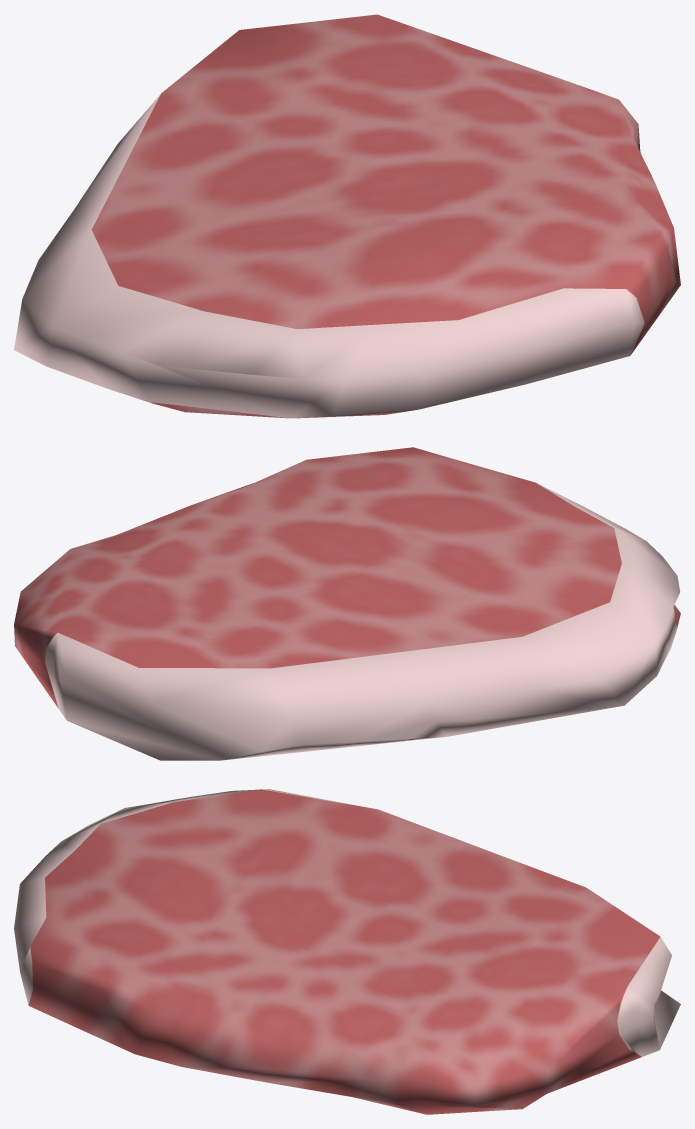
The model's file is cawmeat.fbx.
3 renders of one model, top to bottom at view 1: azimuth 30°, elevation 25°; view 2: azimuth 150°, elevation 25°; view 3: azimuth 270°, elevation 25°, orthographic. The views are drawn at different scales.
Visible parts, largest first — view 1: pCube1; view 2: pCube1; view 3: pCube1.
Boxes of the visible parts, left/top/right/bottom form: pCube1: left=14, top=14, right=680, bottom=418; pCube1: left=14, top=447, right=680, bottom=760; pCube1: left=14, top=789, right=680, bottom=1114.
Size of the model in its own units: 464 by 76.35 by 462.
Materials: 1 (1 with a texture image).
